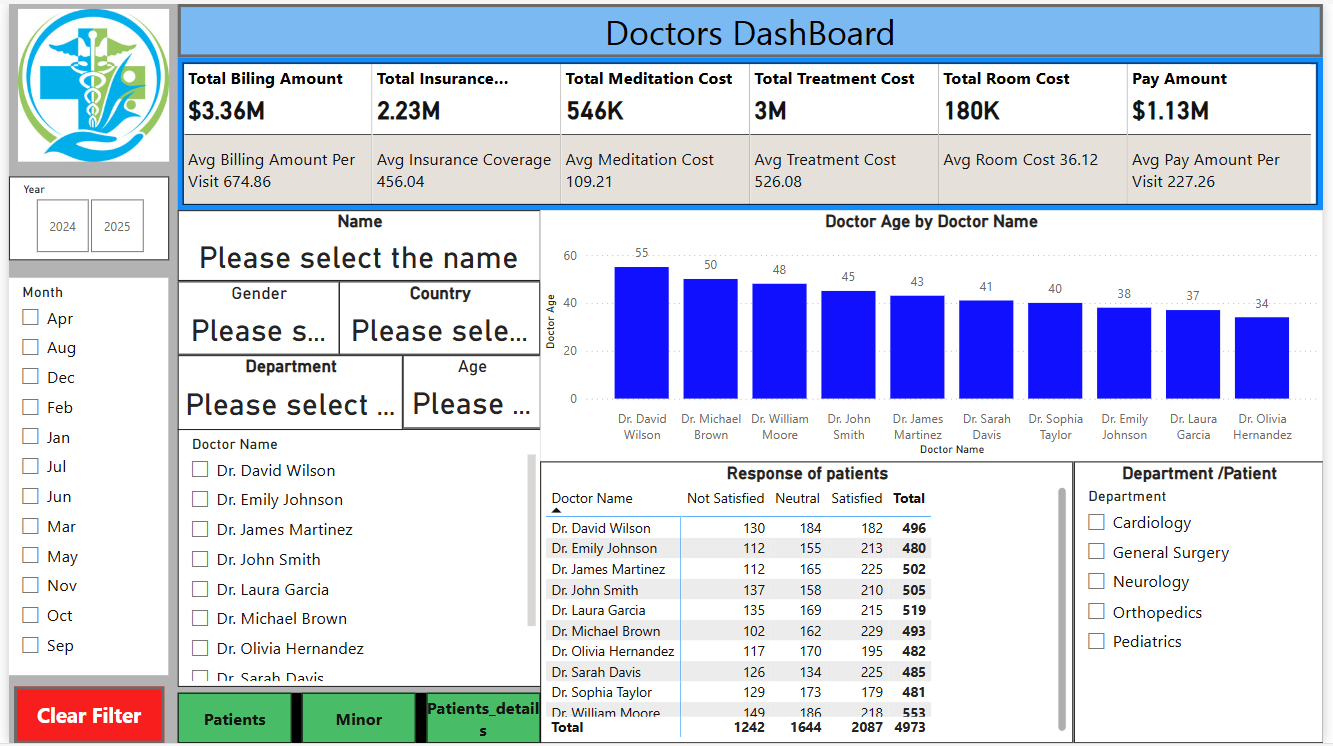

The dashboard page shown, as its layout file describes it:
{"tool":"powerbi","page":{"name":"Doctors","canvas":[1280,720],"ordinal":2},"visuals":[{"type":"cardVisual","fields":{"Data":["Measure Calculation.TotalBilingAmount","Measure Calculation.TotalInsuranceCovered","Measure Calculation.TotalMeditationCost","Measure Calculation.TotalTreatmentCost","Measure Calculation.totalroomcost","Measure Calculation.Pay_Amount"]},"box":[164.6,52.1,1116.1,148.9],"z":0},{"type":"image","box":[0,0,165,158.8],"z":1000},{"type":"slicer","fields":{"Values":["Calender.Date.Variation.Date Hierarchy.Year"]},"box":[0,168.6,155.7,81.4],"z":2000},{"type":"slicer","fields":{"Values":["Calender.Short Month Name"]},"box":[0,266.3,154.9,387.4],"z":3000},{"type":"actionButton","box":[164.7,0,1115.6,52.1],"z":4000},{"type":"card","title":"Age","fields":{"Values":["Combined Table.Doctor_Age"]},"box":[383.7,342.6,134.4,71.4],"z":5000},{"type":"card","title":"Gender","fields":{"Values":["Combined Table.Doctor_Gender"]},"box":[164.6,269.9,157.4,71.4],"z":6000},{"type":"slicer","fields":{"Values":["Combined Table.Doctor Name"]},"box":[164.3,414.3,354.3,251.4],"z":7000},{"type":"card","title":"Name","fields":{"Values":["Combined Table.Doctor_name"]},"box":[164.6,200.9,353.5,69],"z":8000},{"type":"card","title":"Department","fields":{"Values":["Combined Table.Doctor_depart"]},"box":[164.7,341.7,219.6,72.7],"z":9000},{"type":"card","title":"Country","fields":{"Values":["Combined Table.Doctor_country"]},"box":[322,269.9,196.1,71.4],"z":10000},{"type":"clusteredColumnChart","fields":{"Category":["Doctor.Doctor Name"],"Y":["Doctor.DrAge"]},"box":[518.1,200.9,762.6,244.5],"z":11000},{"type":"pivotTable","title":"Response of patients","fields":{"Rows":["Doctor.Doctor Name"],"Columns":["patients.Satisfy"],"Values":["Measure Calculation.Total Patients"]},"box":[518.1,445.5,519.3,274.8],"z":12000},{"type":"slicer","title":" Department  /Patient","fields":{"Values":["departments.Department"]},"box":[1037.4,445.5,243.3,274.8],"z":13000},{"type":"actionButton","box":[4.8,664.6,146.5,55.7],"z":14000},{"type":"pageNavigator","box":[164.6,670.6,353.5,49.6],"z":15000}]}

Visuals, with their boxes in screenshot pixels (x1, y1, x2, y2), scaled from the page's 1280x720 canvas onto the 1333x746 screenshot:
cardVisual - Measure Calculation.TotalBilingAmount x Measure Calculation.TotalInsuranceCovered: locate(171, 54, 1332, 208)
image: locate(0, 0, 172, 165)
slicer - Calender.Date.Variation.Date Hierarchy.Year: locate(0, 175, 162, 259)
slicer - Calender.Short Month Name: locate(0, 276, 161, 677)
actionButton: locate(172, 0, 1332, 54)
"Age" card: locate(400, 355, 540, 429)
"Gender" card: locate(171, 280, 335, 354)
slicer - Combined Table.Doctor Name: locate(171, 429, 540, 690)
"Name" card: locate(171, 208, 540, 280)
"Department" card: locate(172, 354, 400, 429)
"Country" card: locate(335, 280, 540, 354)
clusteredColumnChart - Doctor.Doctor Name x Doctor.DrAge: locate(540, 208, 1332, 461)
"Response of patients" pivotTable: locate(540, 462, 1080, 745)
" Department  /Patient" slicer: locate(1080, 462, 1332, 745)
actionButton: locate(5, 689, 158, 745)
pageNavigator: locate(171, 695, 540, 745)
